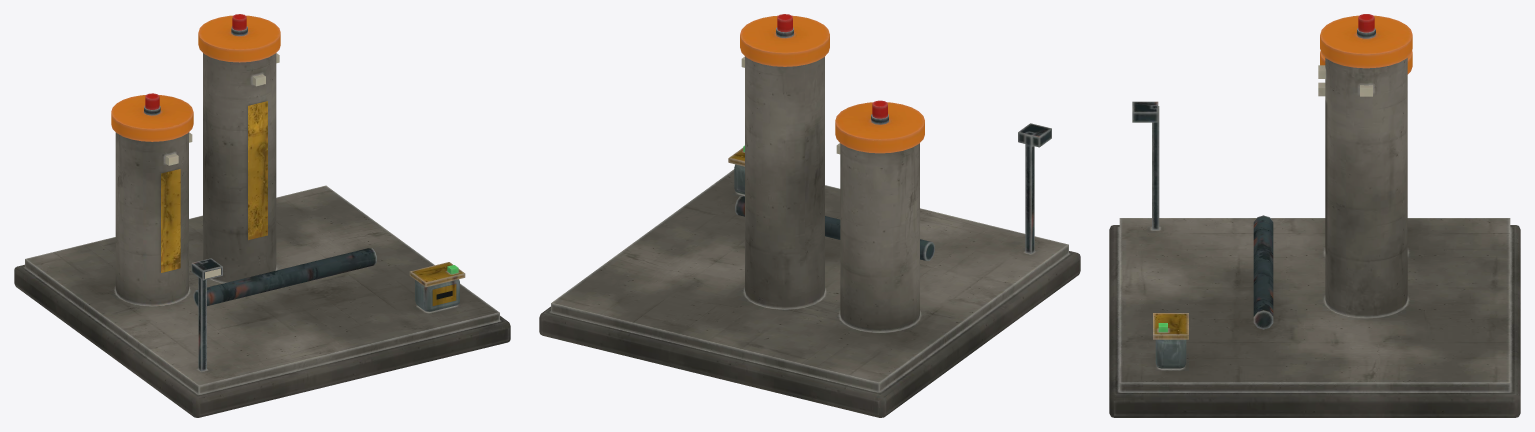
Rendered from geothermal_plant.glb.
The picture shows the model from 3 angles, left to right: view 1: azimuth 30°, elevation 25°; view 2: azimuth 150°, elevation 25°; view 3: azimuth 270°, elevation 25°; orthographic projection. The views are drawn at different scales.
Parts seen in each view (by area): view 1: te_geothermal_plant; view 2: te_geothermal_plant; view 3: te_geothermal_plant.
Part boxes in pixels (x1,y1,x2,y2): te_geothermal_plant: (14, 14, 510, 417); te_geothermal_plant: (539, 14, 1080, 417); te_geothermal_plant: (1109, 14, 1520, 417).
Size of the model in its own units: 0.8 by 0.6776 by 0.8.
Materials: 1 (1 with a texture image).
